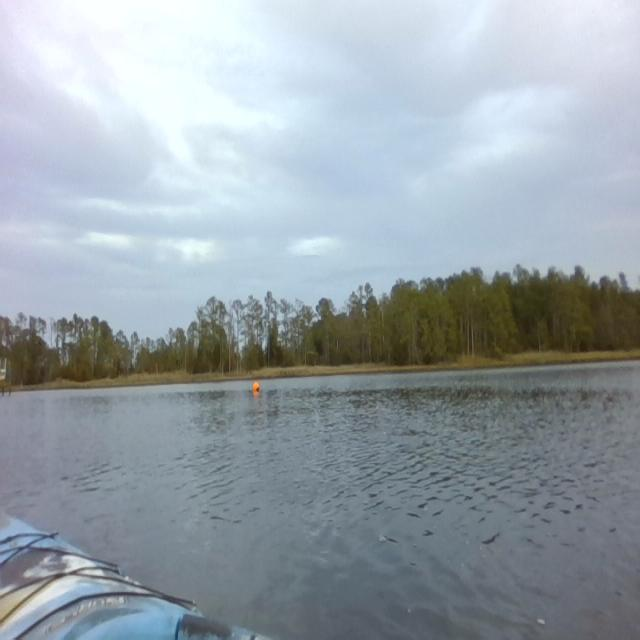Buoy: (252, 379, 262, 397)
